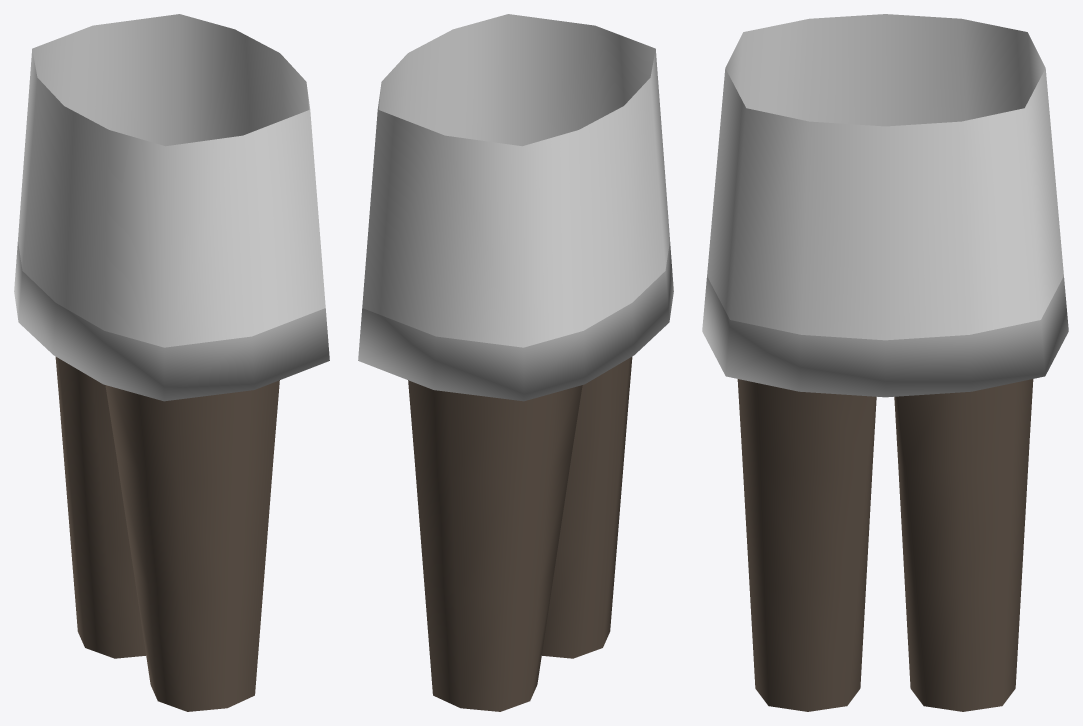
The model's file is skirt.fbx.
3 views of the same model, side by side, from view 1: azimuth 30°, elevation 25°; view 2: azimuth 150°, elevation 25°; view 3: azimuth 270°, elevation 25° (orthographic). The views are drawn at different scales.
Visible parts, largest first — view 1: Cube.014; view 2: Cube.014; view 3: Cube.014.
Boxes of the visible parts, bbox=[...] form: Cube.014: bbox=[14, 14, 329, 711]; Cube.014: bbox=[358, 14, 673, 711]; Cube.014: bbox=[702, 14, 1068, 711].
Bounding box in the file's own units: 118 × 271 × 145.
